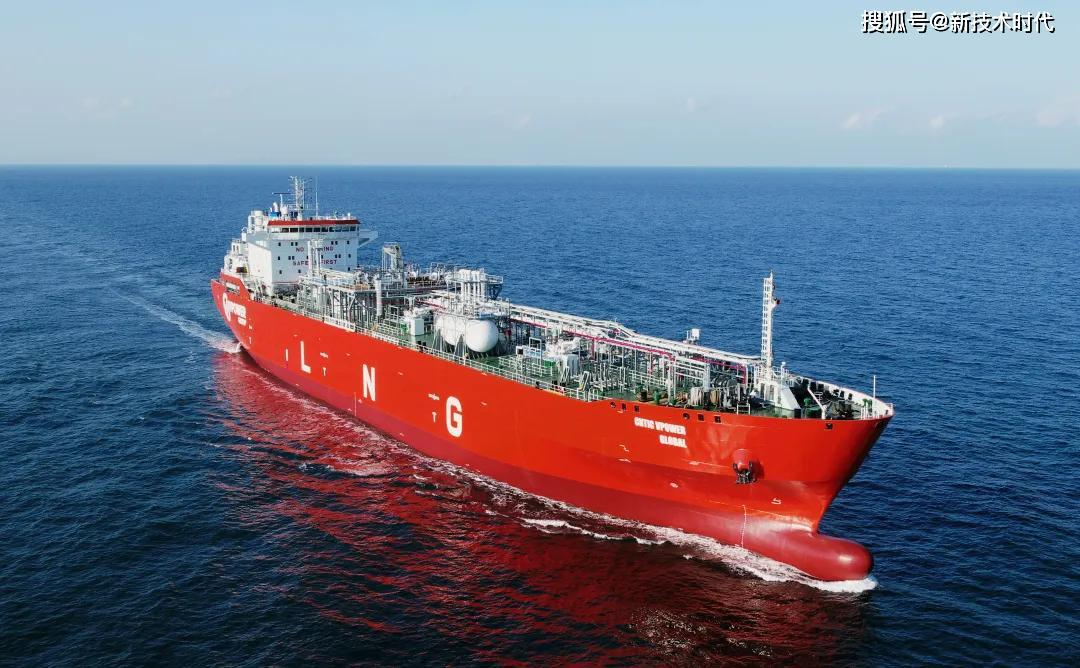Cargoship: (213, 170, 884, 586)
